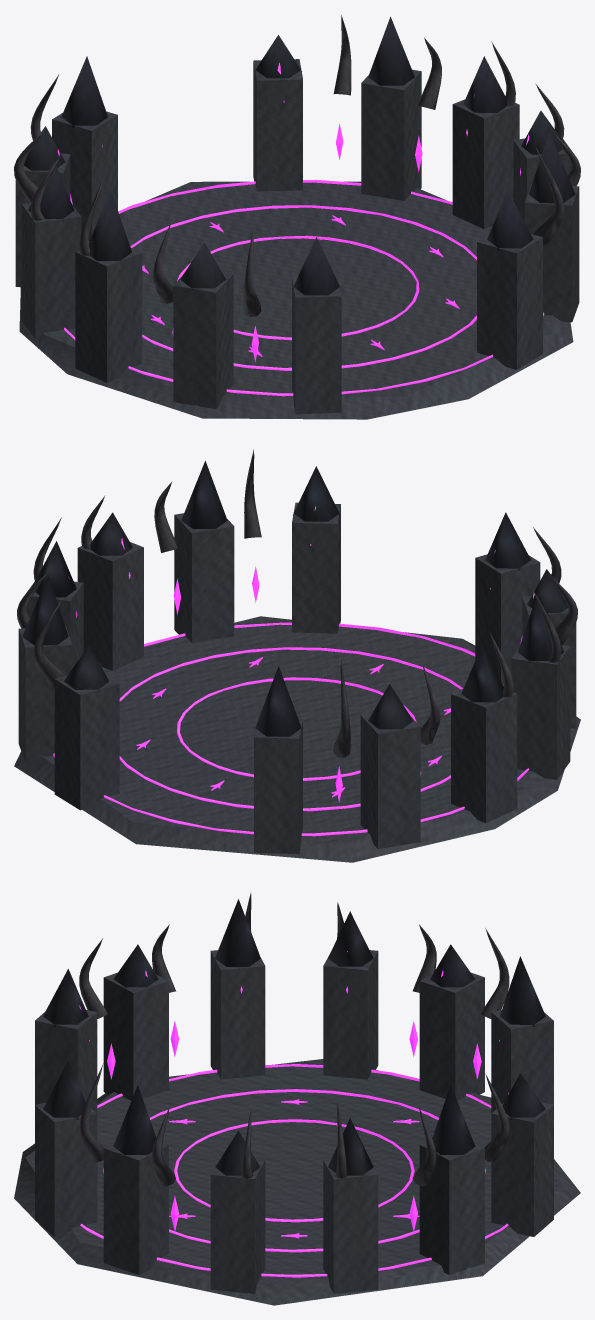
File: rift_pit.gltf
The picture shows the model from 3 angles, top to bottom: view 1: azimuth 30°, elevation 25°; view 2: azimuth 150°, elevation 25°; view 3: azimuth 270°, elevation 25°; orthographic projection.
Visible parts, largest first — view 1: rift_pit; view 2: rift_pit; view 3: rift_pit.
Boxes of the visible parts, box(x1,y1,x2,y2) form: rift_pit: box(14, 15, 580, 419); rift_pit: box(14, 449, 580, 862); rift_pit: box(14, 892, 580, 1305).
Bounding box in the file's own units: 14.32 × 5.29 × 14.32.
Materials: 4 (2 with a texture image).
